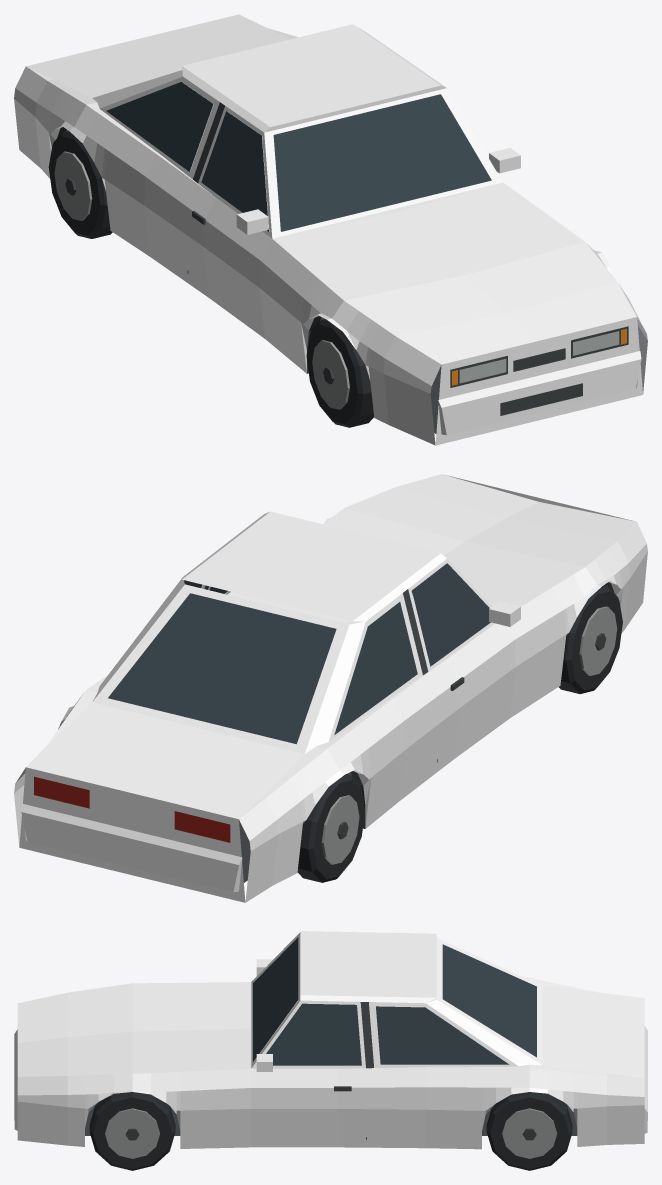
Rendered from ostwerk_habicht.glb.
3 views of the same model, one above another, from view 1: azimuth 30°, elevation 25°; view 2: azimuth 150°, elevation 25°; view 3: azimuth 270°, elevation 25° (orthographic). The views are drawn at different scales.
Visible parts, largest first — view 1: ostwerk_habicht; view 2: ostwerk_habicht; view 3: ostwerk_habicht.
Boxes of the visible parts, bbox=[...] form: ostwerk_habicht: bbox=[14, 14, 647, 445]; ostwerk_habicht: bbox=[14, 474, 647, 902]; ostwerk_habicht: bbox=[14, 931, 647, 1170].
Bounding box in the file's own units: 1.8 × 1.29 × 4.66.
8 materials, 1 textured.
